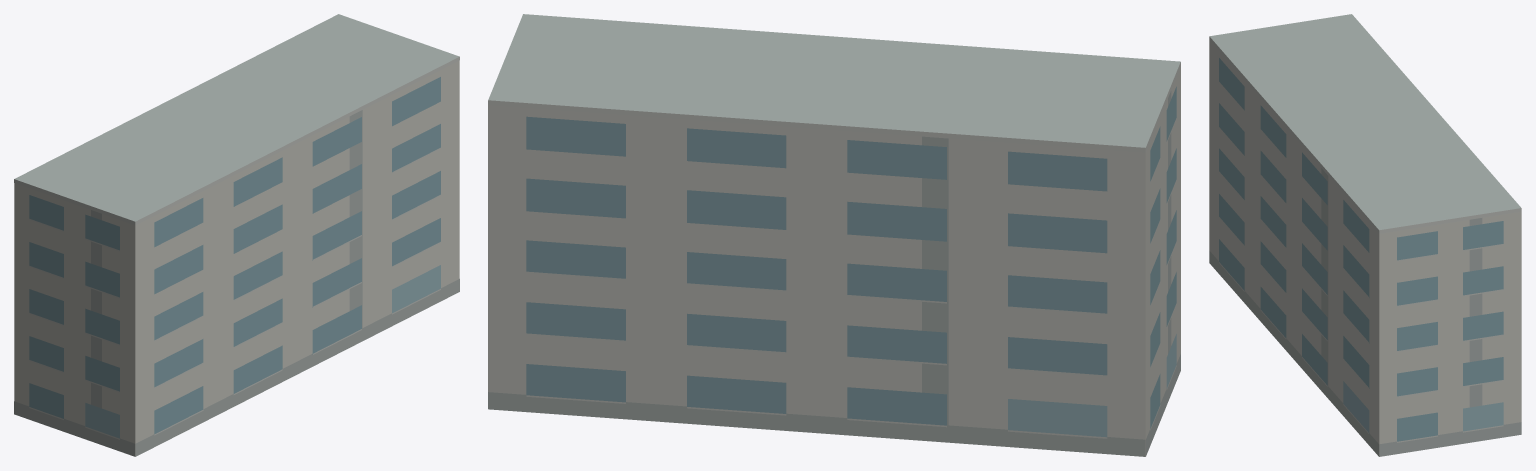
File: residential-ccaba96b-be55-4335-85ab-e431a9a3c6b8.glb
3 views of the same model, side by side, from view 1: azimuth 30°, elevation 25°; view 2: azimuth 150°, elevation 25°; view 3: azimuth 270°, elevation 25° (orthographic). The views are drawn at different scales.
Visible parts, largest first — view 1: residential-ccaba96b-be55-4335-85ab-e431a9a3c6b8.tmp; view 2: residential-ccaba96b-be55-4335-85ab-e431a9a3c6b8.tmp; view 3: residential-ccaba96b-be55-4335-85ab-e431a9a3c6b8.tmp.
Part boxes in pixels (x1=…): residential-ccaba96b-be55-4335-85ab-e431a9a3c6b8.tmp: x1=14, y1=14, x2=459, y2=456; residential-ccaba96b-be55-4335-85ab-e431a9a3c6b8.tmp: x1=488, y1=14, x2=1180, y2=456; residential-ccaba96b-be55-4335-85ab-e431a9a3c6b8.tmp: x1=1209, y1=14, x2=1521, y2=456.
Size of the model in its own units: 31.2 by 15.25 by 19.05.
